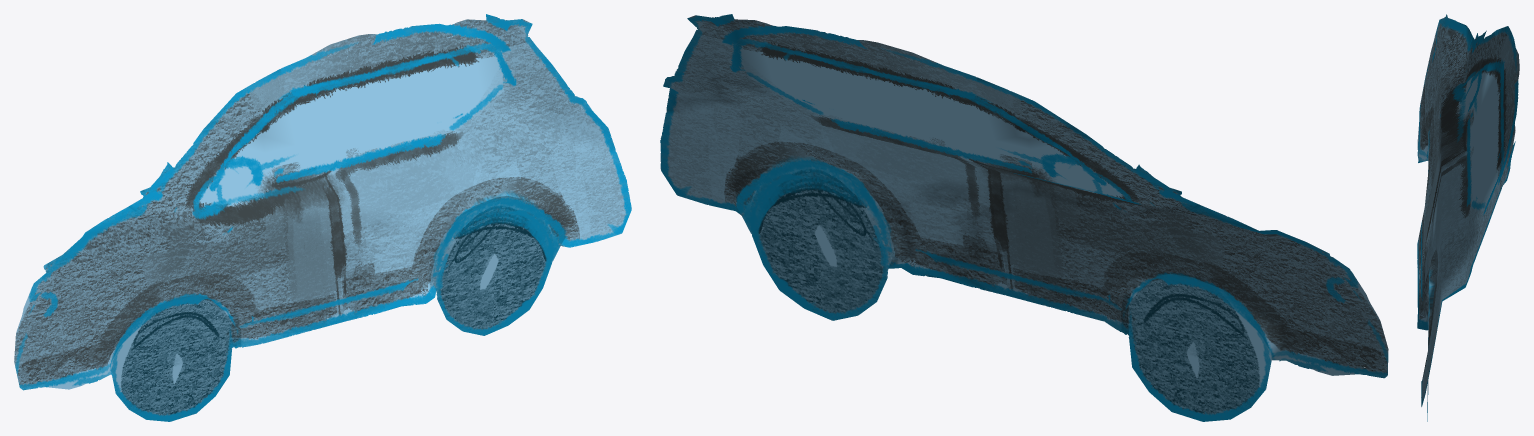
Rendered from car_1.fbx.
3 renders of one model, left to right at view 1: azimuth 30°, elevation 25°; view 2: azimuth 150°, elevation 25°; view 3: azimuth 270°, elevation 25°, orthographic. The views are drawn at different scales.
Visible parts, largest first — view 1: mask7; view 2: mask7; view 3: mask7.
Boxes of the visible parts, bbox=[...] form: mask7: bbox=[14, 14, 631, 421]; mask7: bbox=[660, 14, 1388, 421]; mask7: bbox=[1417, 14, 1519, 421].
Bounding box in the file's own units: 9.99 × 4.6 × 1.36.
1 material, 1 textured.
